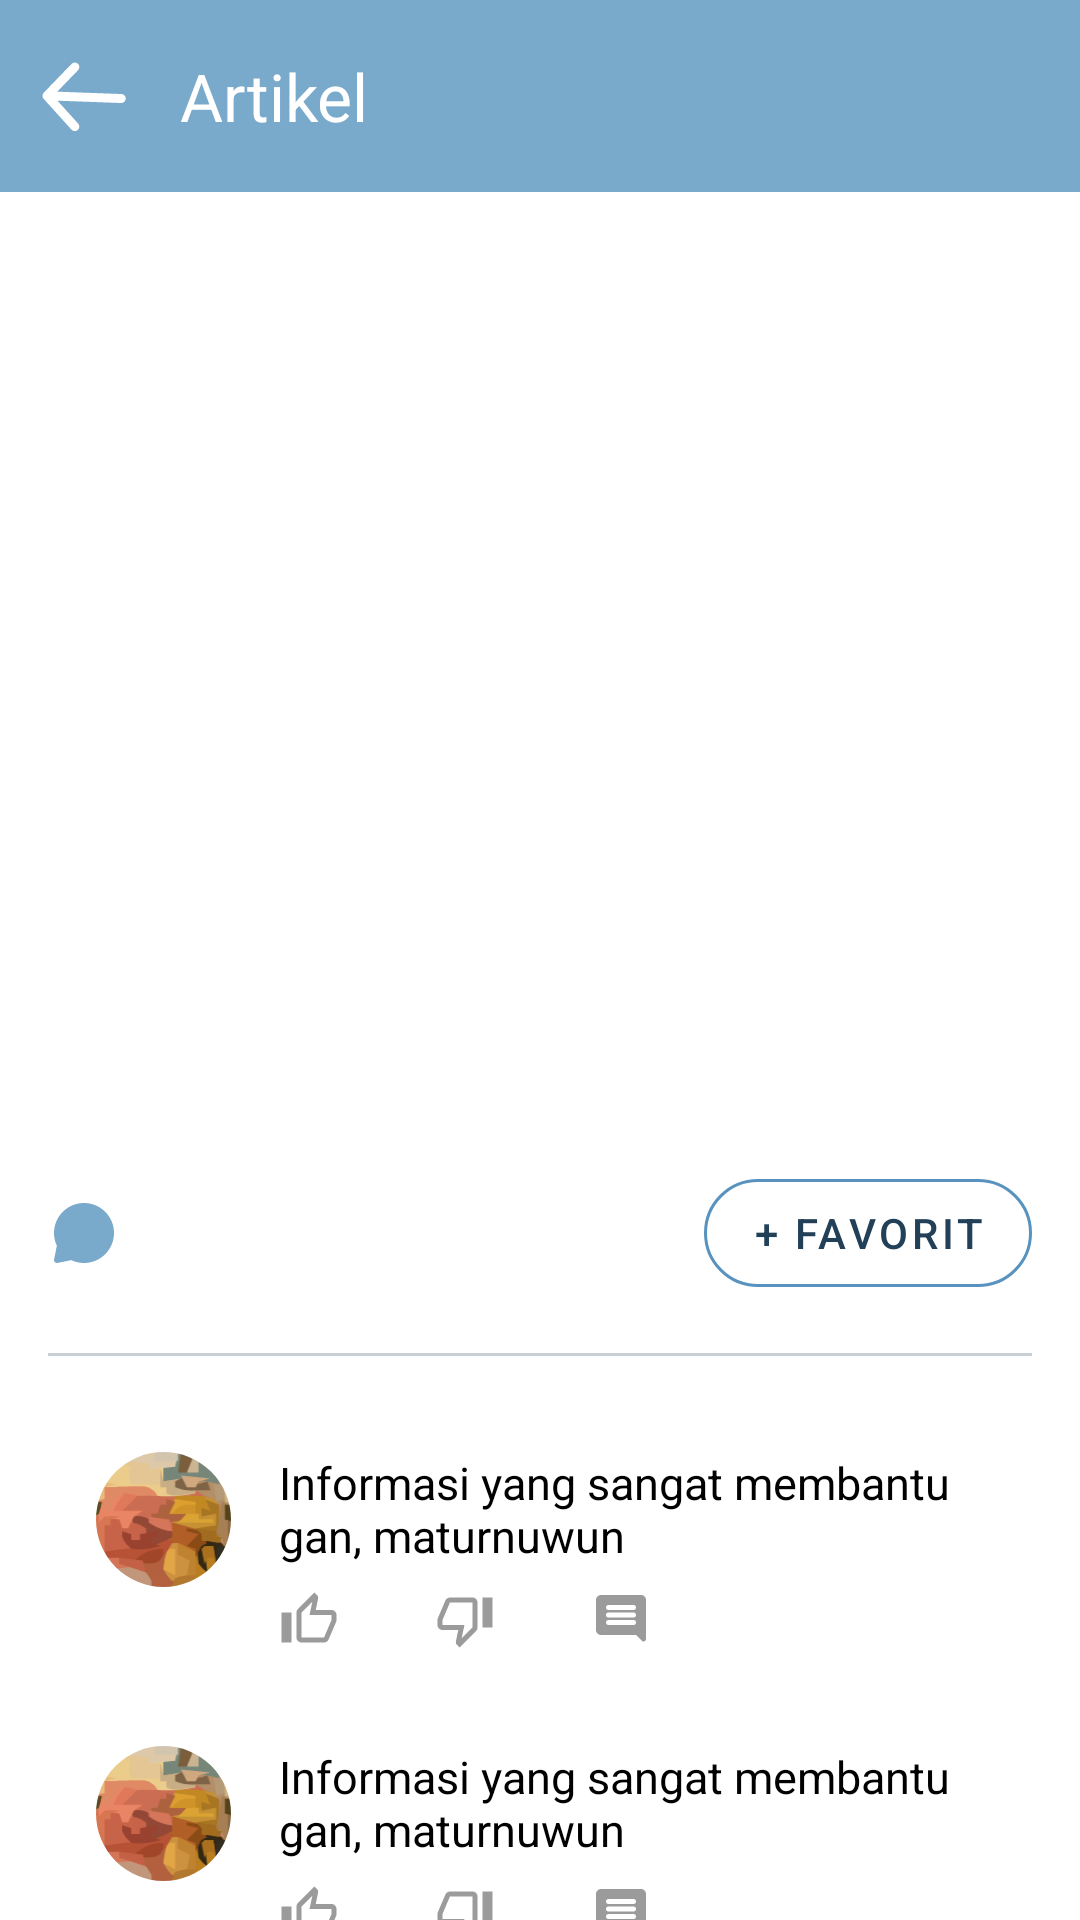

Point at icon controls on the screen. Image size 1080*1920, points as (x,y).
comment: (84,1233)
profile pic: (163,1519), (163,1813)
